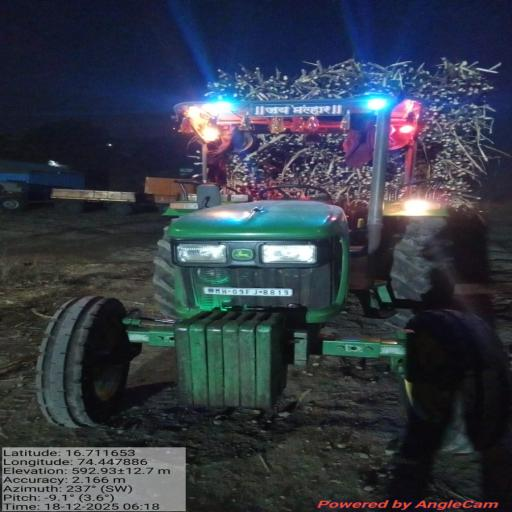number_plate: (204, 287, 293, 296)
